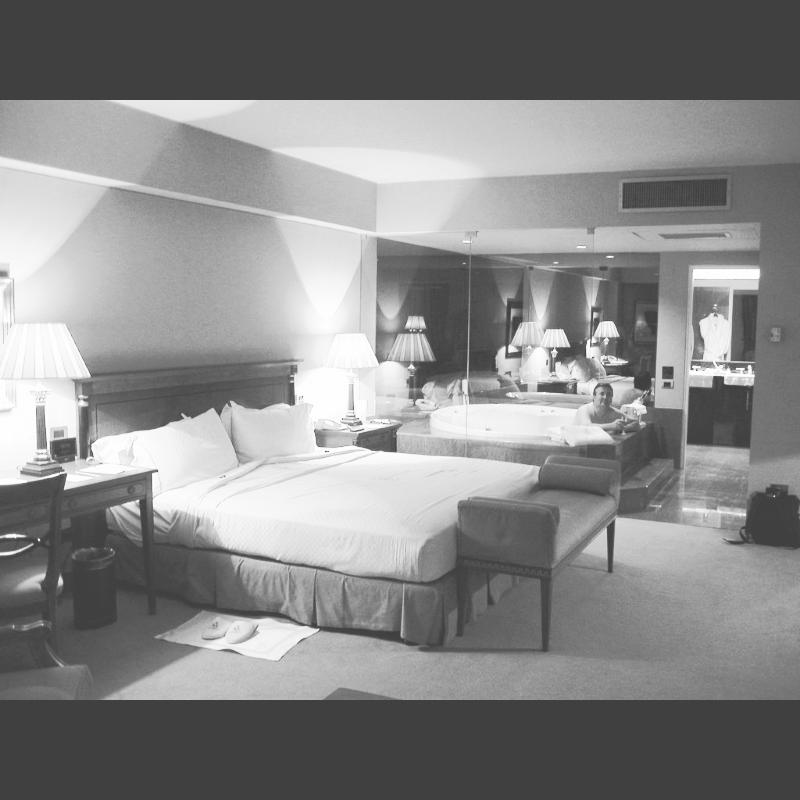pillow: (91, 408, 244, 508), (231, 394, 318, 464)
